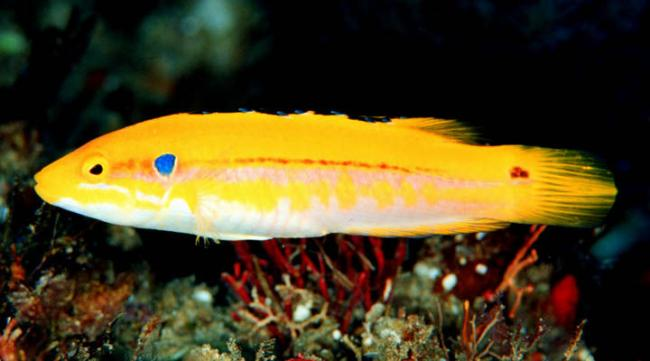fish: (33, 111, 619, 242)
